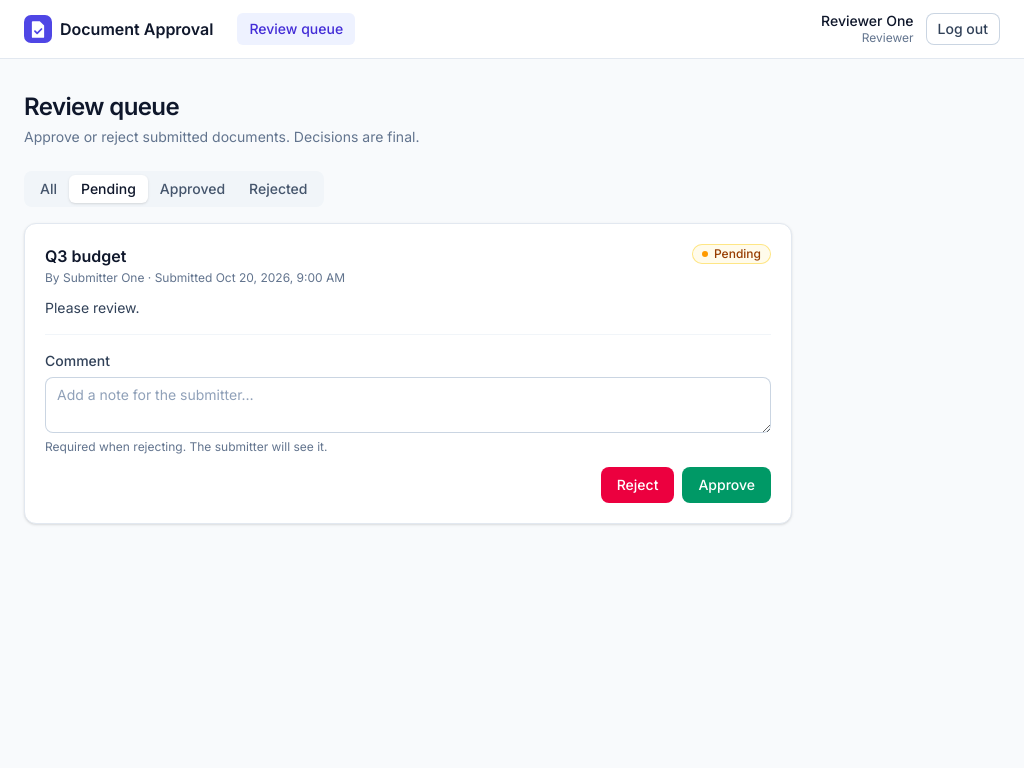
Test: ReviewQueuePage › approves a submission and removes it from the pending queue
Type "Looks good" into the text box labelled "Comment" at (408,404), box [45, 376, 771, 432]
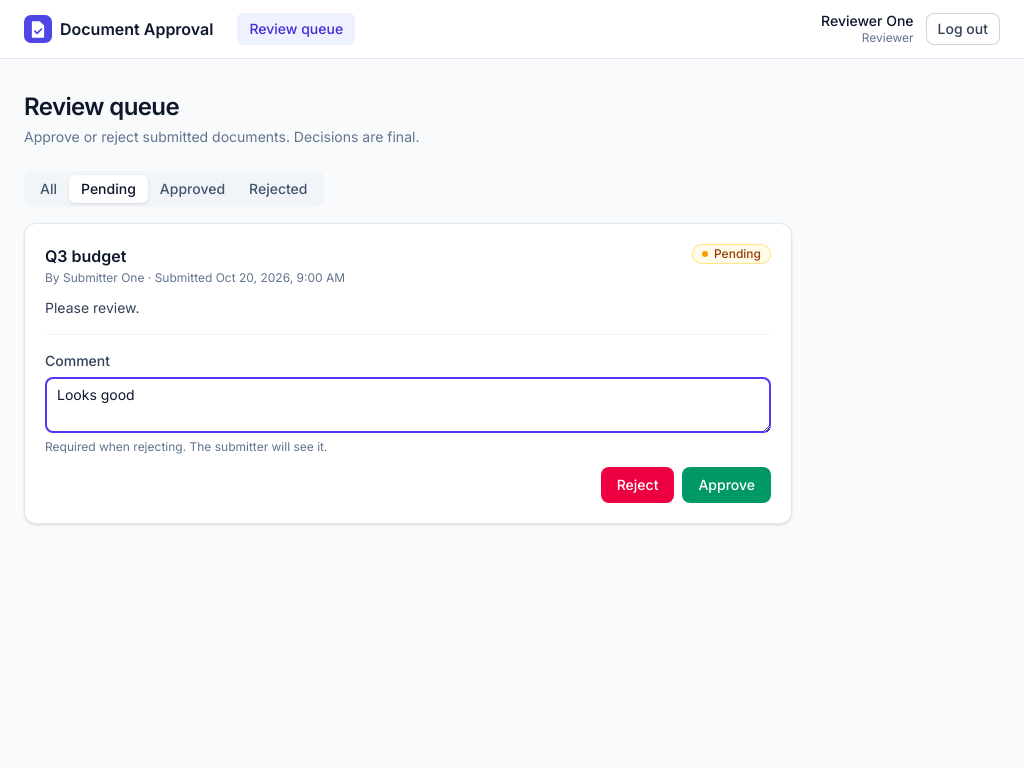
Click the button "Approve" at (727,484), box [682, 466, 771, 502]
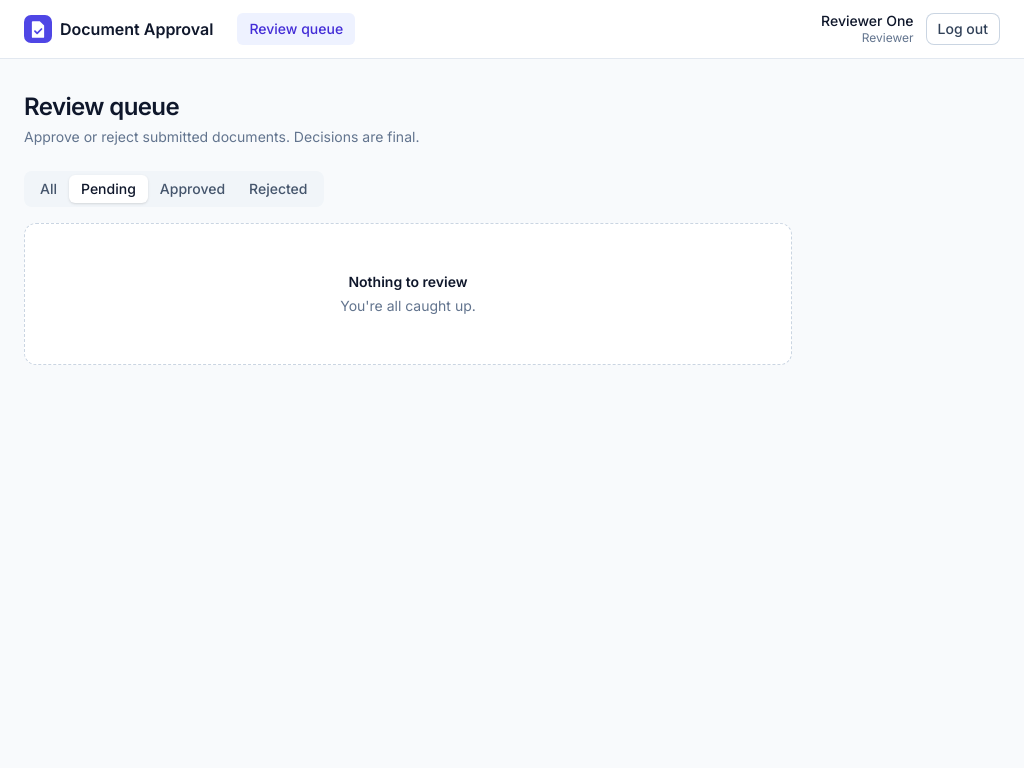
expect the text "Nothing to review" is shown: met, box [348, 272, 468, 290]
